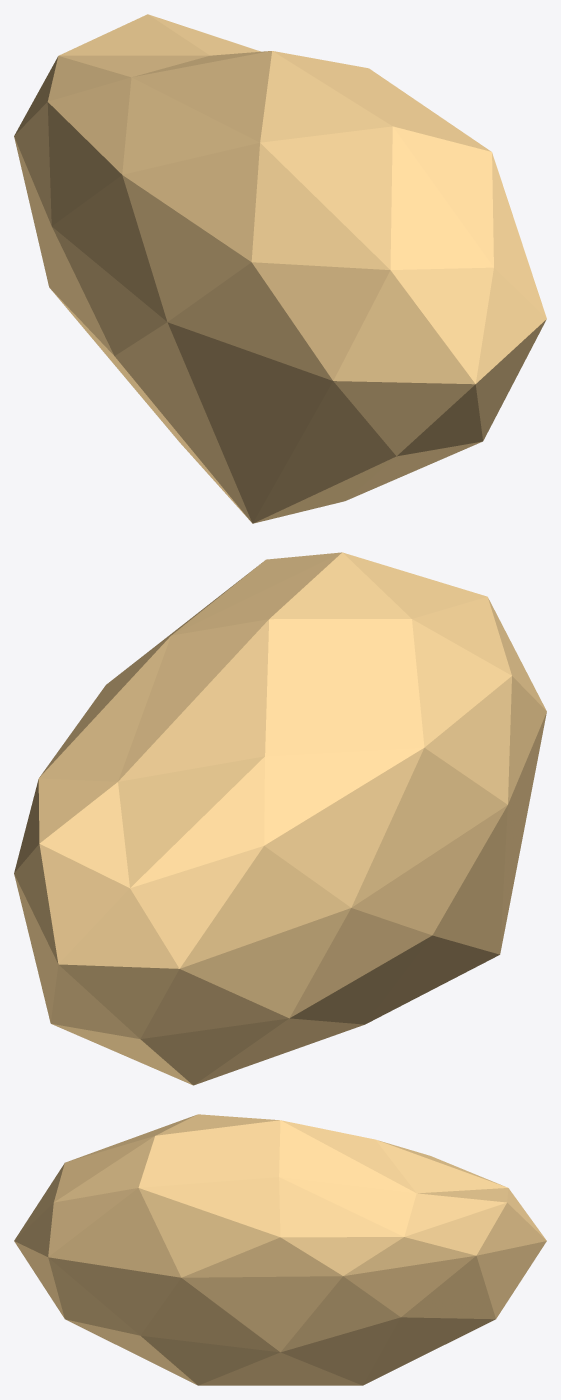
File: 2x1Rock.fbx
3 views of the same model, one above another, from view 1: azimuth 30°, elevation 25°; view 2: azimuth 150°, elevation 25°; view 3: azimuth 270°, elevation 25° (orthographic). The views are drawn at different scales.
Visible parts, largest first — view 1: Boulder; view 2: Boulder; view 3: Boulder.
Boxes of the visible parts, box(x1,y1,x2,y2) form: Boulder: box(14, 14, 546, 523); Boulder: box(14, 552, 546, 1085); Boulder: box(14, 1114, 546, 1385).
Size of the model in its own units: 93.34 by 100 by 200.
